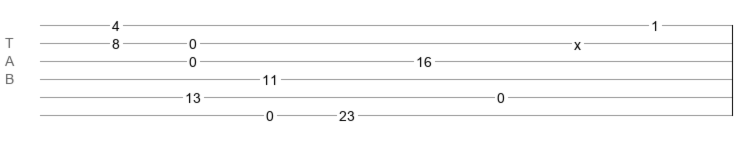0: (189, 36, 197, 46), (189, 54, 197, 64), (266, 108, 274, 118), (497, 90, 505, 100)
1: (651, 18, 659, 28)
11: (262, 72, 278, 82)
13: (185, 90, 201, 100)
16: (416, 54, 432, 64)
23: (339, 108, 355, 118)
4: (112, 18, 120, 28)
8: (112, 36, 120, 46)
x: (574, 37, 581, 45)
